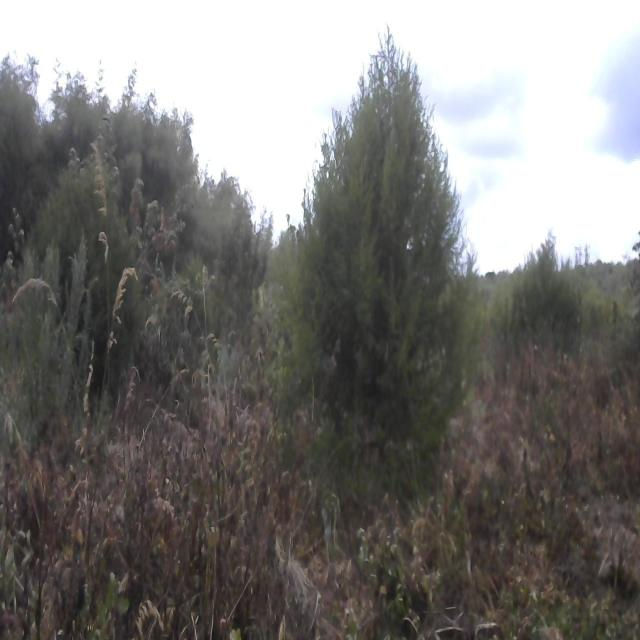Juniperus procesera: (288, 18, 466, 466)
